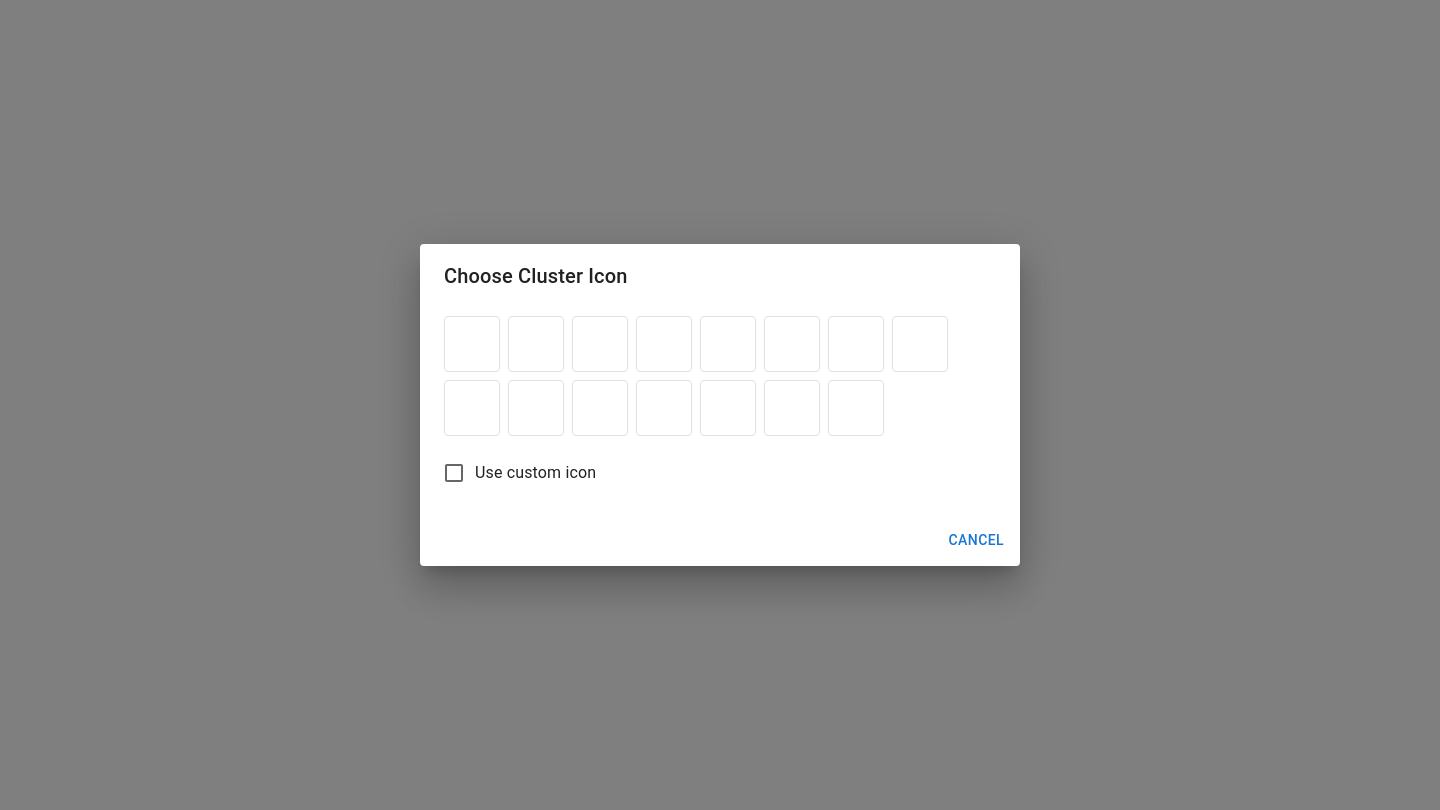
Test: IconPicker Component › enables custom icon mode when checkbox is clicked
Click the checkbox labelled "Use custom icon". click: (519, 473)
box: [442, 461, 596, 485]
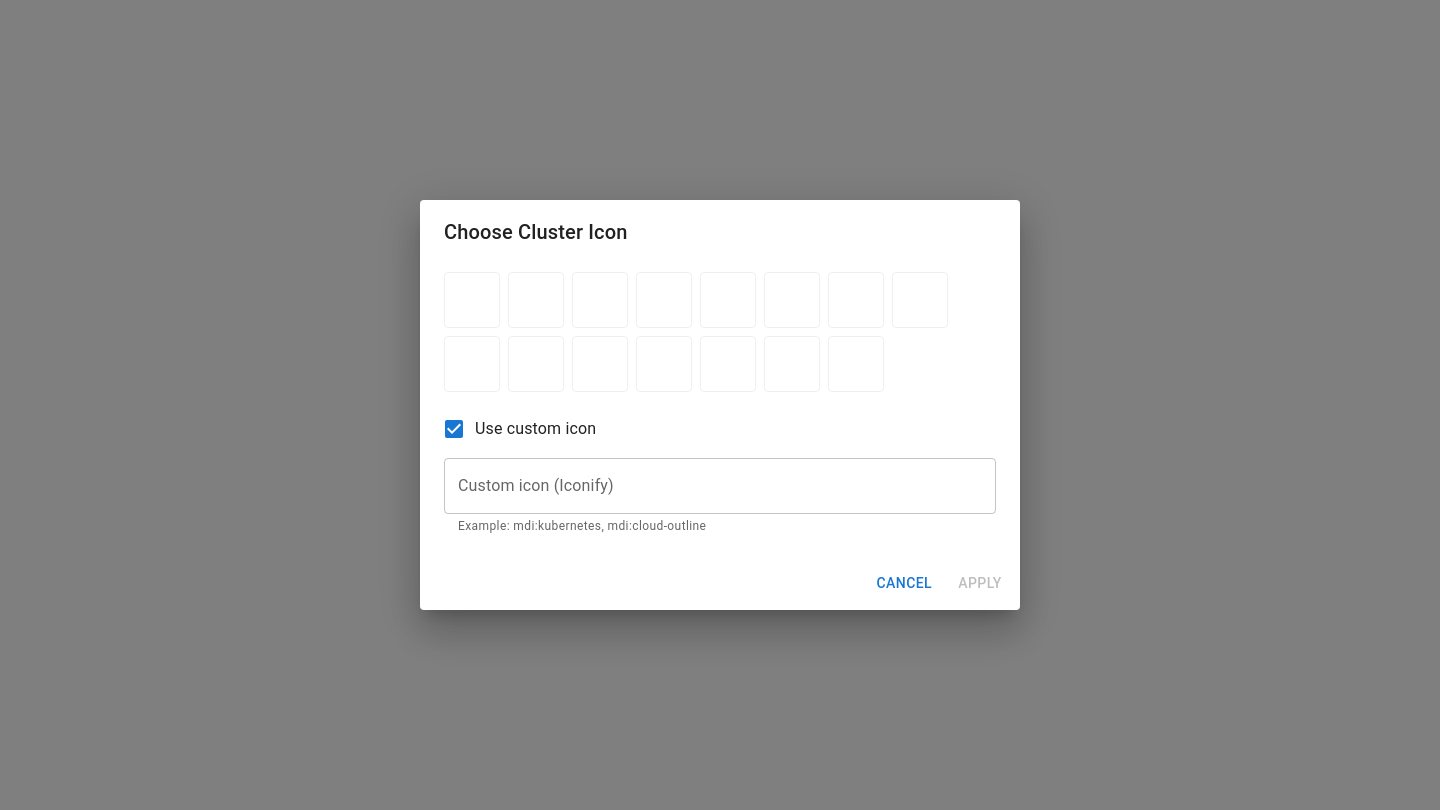
Expected: the field labelled "Custom icon (Iconify)" is shown, [444, 458, 996, 514]
